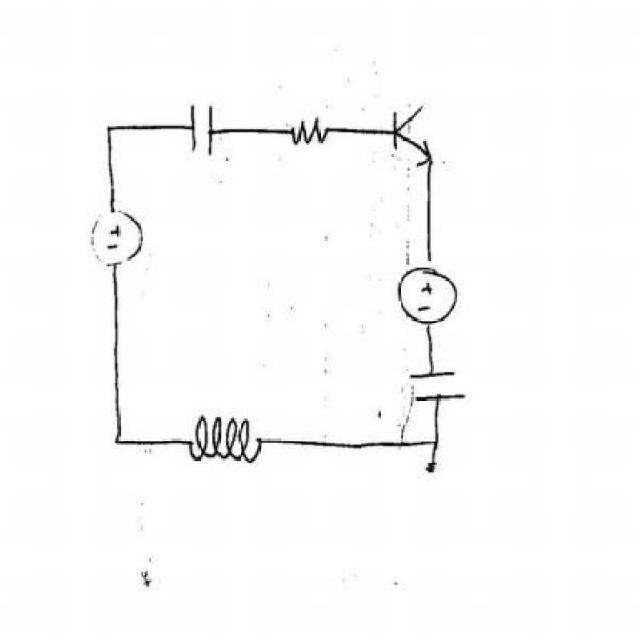capacitor: (185, 91, 225, 159), (406, 368, 472, 408)
inductor: (188, 417, 267, 461)
resistor: (289, 113, 337, 152)
transistor: (386, 94, 439, 168)
voltage_source: (91, 201, 153, 278), (394, 259, 460, 327)
